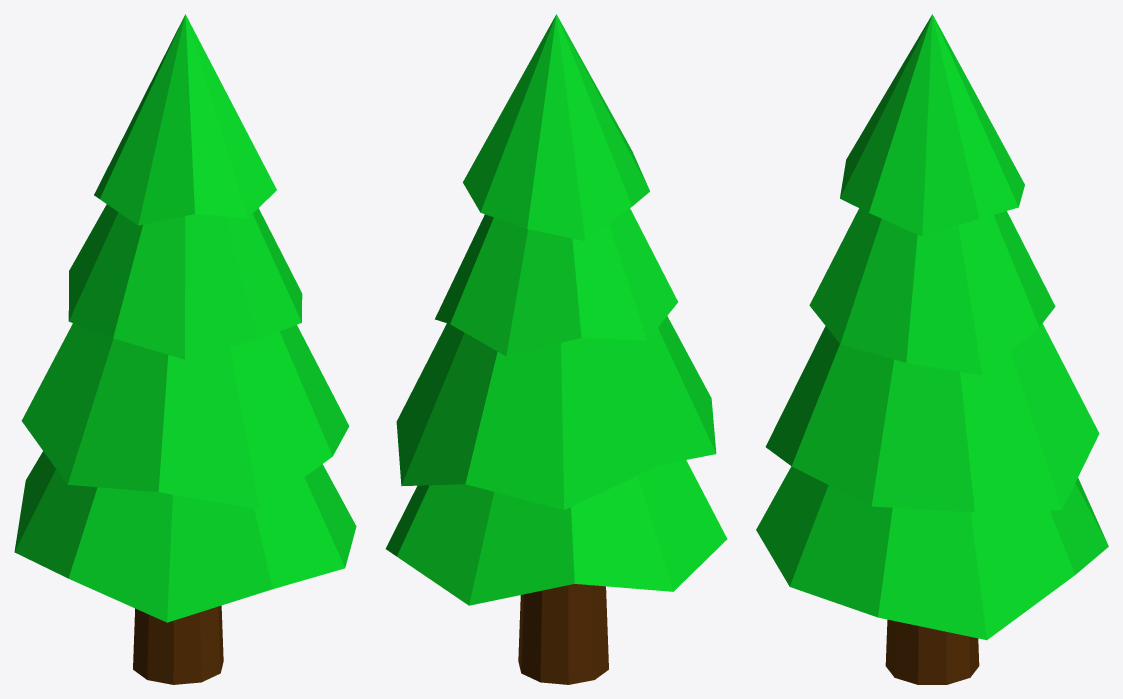
The model's file is tree.fbx.
3 renders of one model, left to right at view 1: azimuth 30°, elevation 25°; view 2: azimuth 150°, elevation 25°; view 3: azimuth 270°, elevation 25°, orthographic.
Visible parts, largest first — view 1: Cylinder; view 2: Cylinder; view 3: Cylinder.
Part boxes in pixels (x1=…): Cylinder: x1=14, y1=14, x2=356, y2=684; Cylinder: x1=385, y1=14, x2=727, y2=684; Cylinder: x1=756, y1=14, x2=1108, y2=684.
Size of the model in its own units: 444 by 956 by 466.
